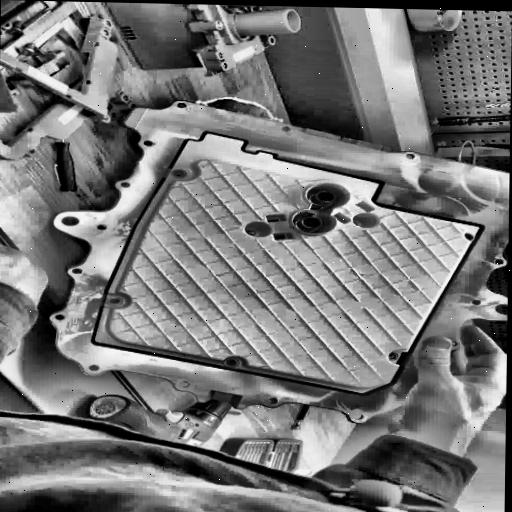battery_module: (46, 100, 511, 438), (94, 2, 306, 84)
